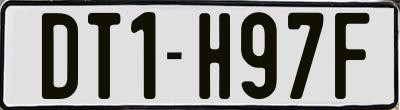1: (131, 10, 156, 103)
7: (285, 11, 326, 102)
9: (239, 10, 277, 99)
D: (39, 13, 77, 102)
F: (335, 13, 369, 100)
H: (196, 12, 230, 101)
T: (88, 13, 125, 103)
